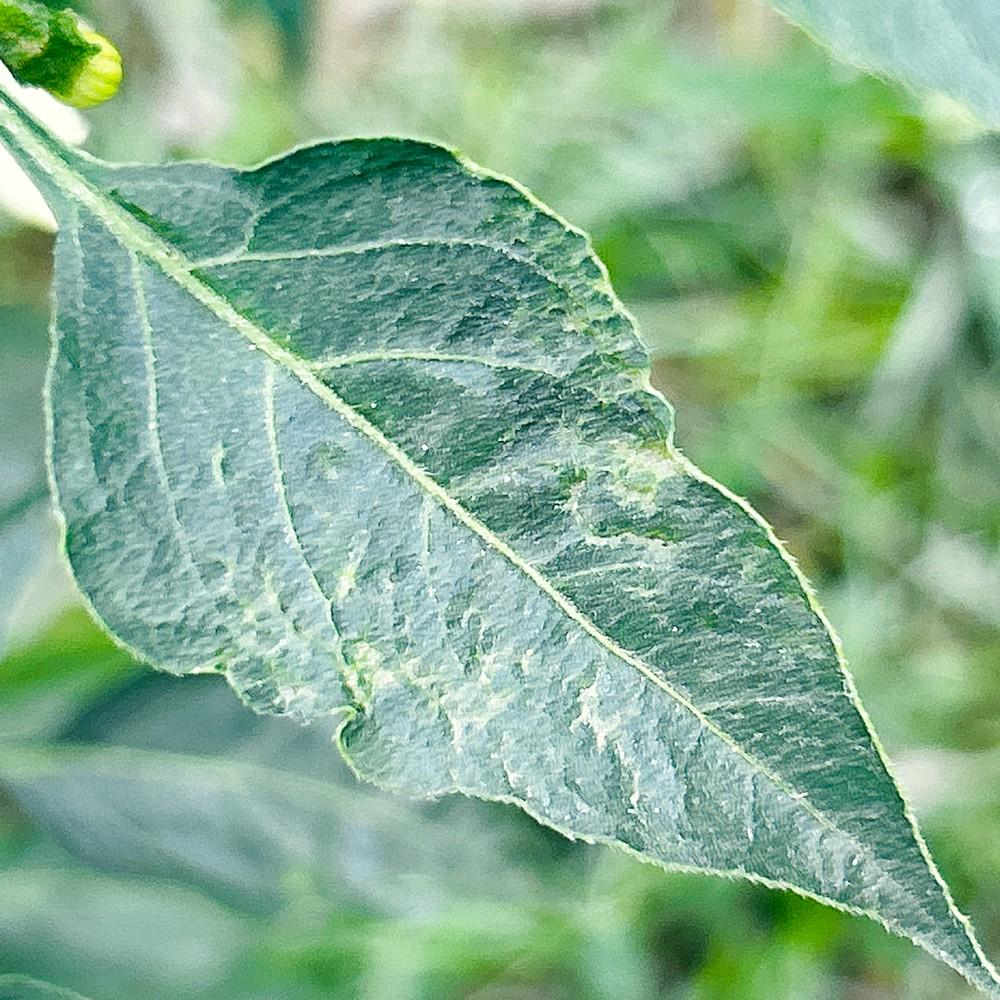Daun Cabai Sehat: (36, 134, 998, 995)
